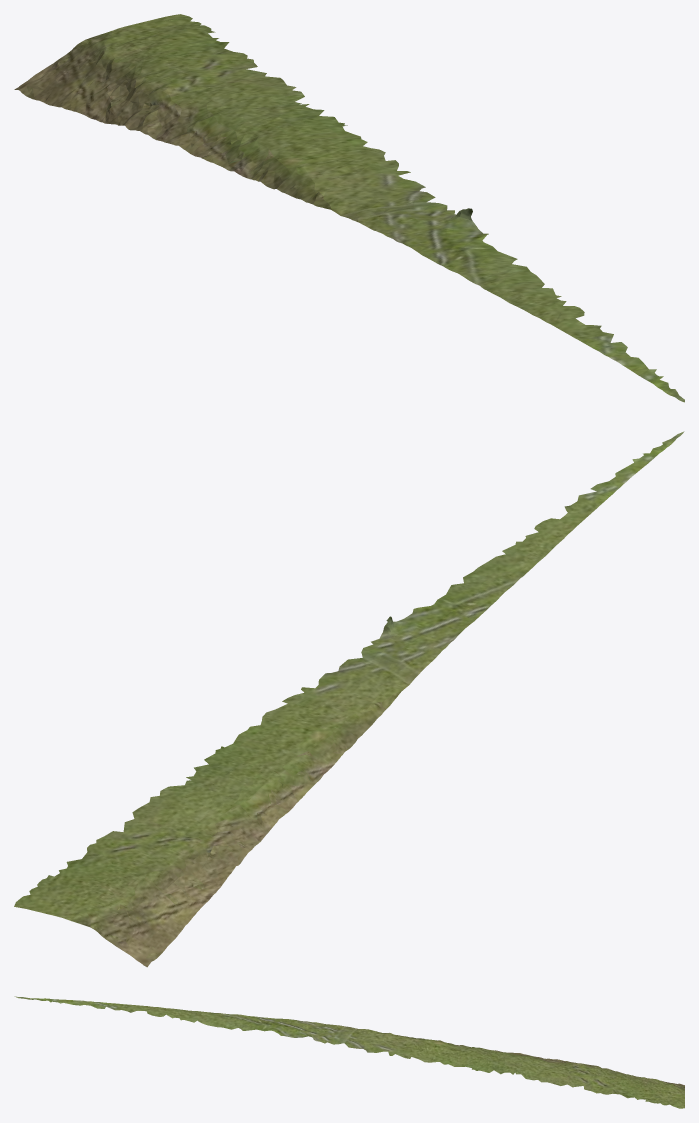
3 renders of one model, top to bottom at view 1: azimuth 30°, elevation 25°; view 2: azimuth 150°, elevation 25°; view 3: azimuth 270°, elevation 25°, orthographic. The views are drawn at different scales.
Bounding box in the file's own units: 1.92 × 1.93 × 13.17.
1 material, 1 textured.
